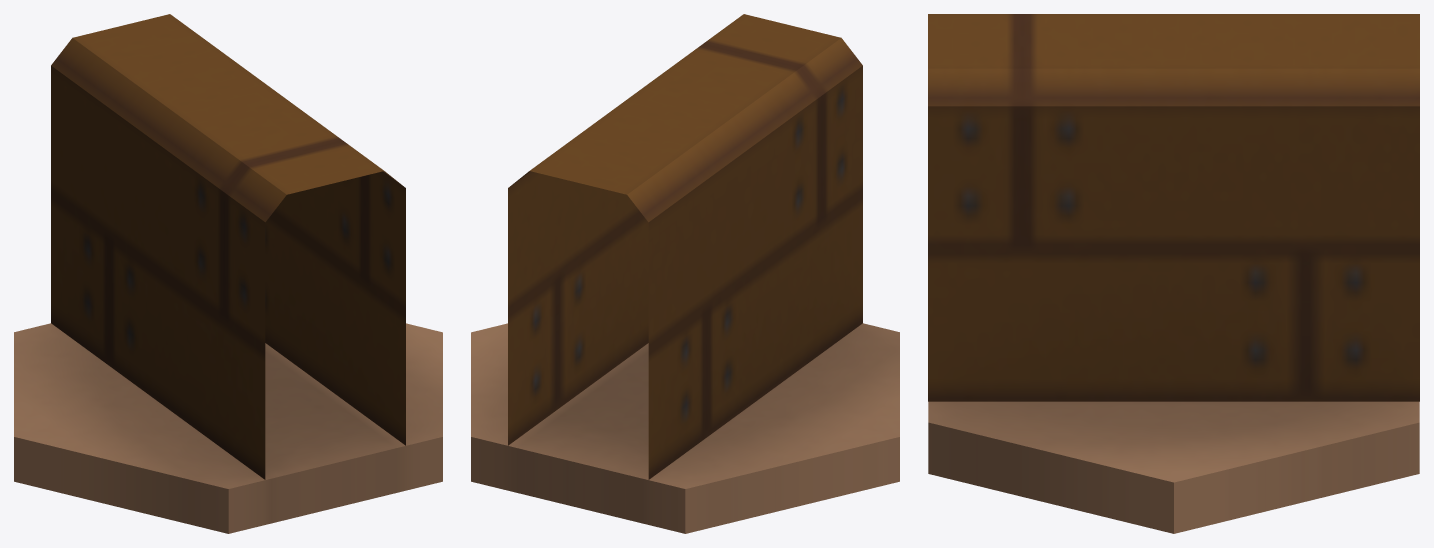
The model's file is Barriere_Centre_Pont.FBX.
3 renders of one model, left to right at view 1: azimuth 30°, elevation 25°; view 2: azimuth 150°, elevation 25°; view 3: azimuth 270°, elevation 25°, orthographic. The views are drawn at different scales.
Parts seen in each view (by area): view 1: Barriere_Centre_Pont; view 2: Barriere_Centre_Pont; view 3: Barriere_Centre_Pont.
Part boxes in pixels (<box>): Barriere_Centre_Pont: <box>14,14,442,533</box>; Barriere_Centre_Pont: <box>471,14,899,533</box>; Barriere_Centre_Pont: <box>928,14,1419,533</box>.
Size of the model in its own units: 1 by 0.7246 by 0.8663.
